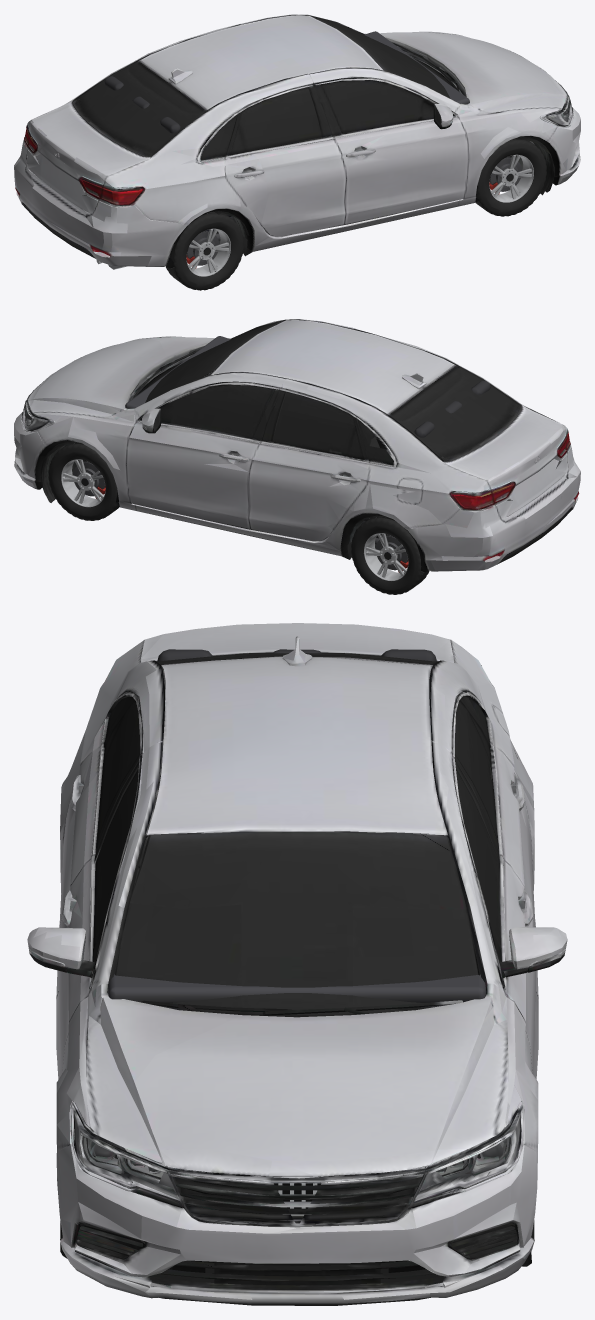
3 renders of one model, top to bottom at view 1: azimuth 30°, elevation 25°; view 2: azimuth 150°, elevation 25°; view 3: azimuth 270°, elevation 25°, orthographic. The views are drawn at different scales.
Visible parts, largest first — view 1: body, door_rr, door_fr, hood, trunk, wheel_rr~rubber, wheel_fr~rubber, wheel_fr, wheel_rr, dashboard, seat_rear, disc_fr (+1 smaller); view 2: body, door_rl, door_fl, hood, trunk, wheel_rl~rubber, wheel_fl~rubber, wheel_fl, wheel_rl, dashboard, seat_rear, disc_fl (+1 smaller); view 3: body, hood, trunk, door_rl, door_rr, dashboard, door_fl, door_fr, seat_rear.
Part boxes in pixels (box(x1,y1,x2,y2)): body: box(14, 14, 580, 270); door_rr: box(225, 84, 348, 245); door_fr: box(321, 96, 468, 224); hood: box(387, 32, 567, 103); trunk: box(27, 105, 138, 200); wheel_rr~rubber: box(165, 211, 243, 290); wheel_fr~rubber: box(475, 138, 546, 216); wheel_fr: box(489, 154, 533, 202); wheel_rr: box(186, 228, 230, 276); dashboard: box(364, 31, 469, 104); seat_rear: box(104, 76, 233, 219); disc_fr: box(489, 157, 521, 191); body: box(14, 319, 580, 574); door_rl: box(246, 389, 369, 550); door_fl: box(126, 397, 266, 528); hood: box(28, 339, 167, 407); trunk: box(452, 411, 567, 505); wheel_rl~rubber: box(351, 515, 429, 594); wheel_fl~rubber: box(48, 441, 119, 520); wheel_fl: box(61, 459, 105, 507); wheel_rl: box(364, 533, 408, 580); dashboard: box(125, 336, 230, 408); seat_rear: box(361, 380, 490, 524); disc_fl: box(73, 461, 105, 496); body: box(27, 634, 567, 1305); hood: box(124, 1003, 483, 1176); trunk: box(141, 623, 449, 660); door_rl: box(455, 696, 538, 1000); door_rr: box(56, 694, 140, 1000); dashboard: box(108, 974, 485, 1002); door_fl: box(472, 796, 560, 1079); door_fr: box(33, 767, 138, 1079); seat_rear: box(157, 649, 436, 661).
Size of the model in its own units: 4.48 by 1.49 by 2.09.
Materials: 16 (1 with a texture image).
